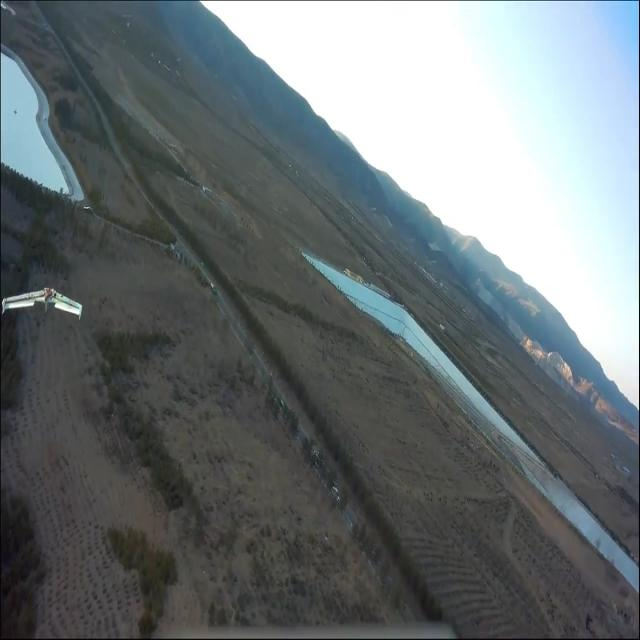iha: (33, 281, 51, 321)
